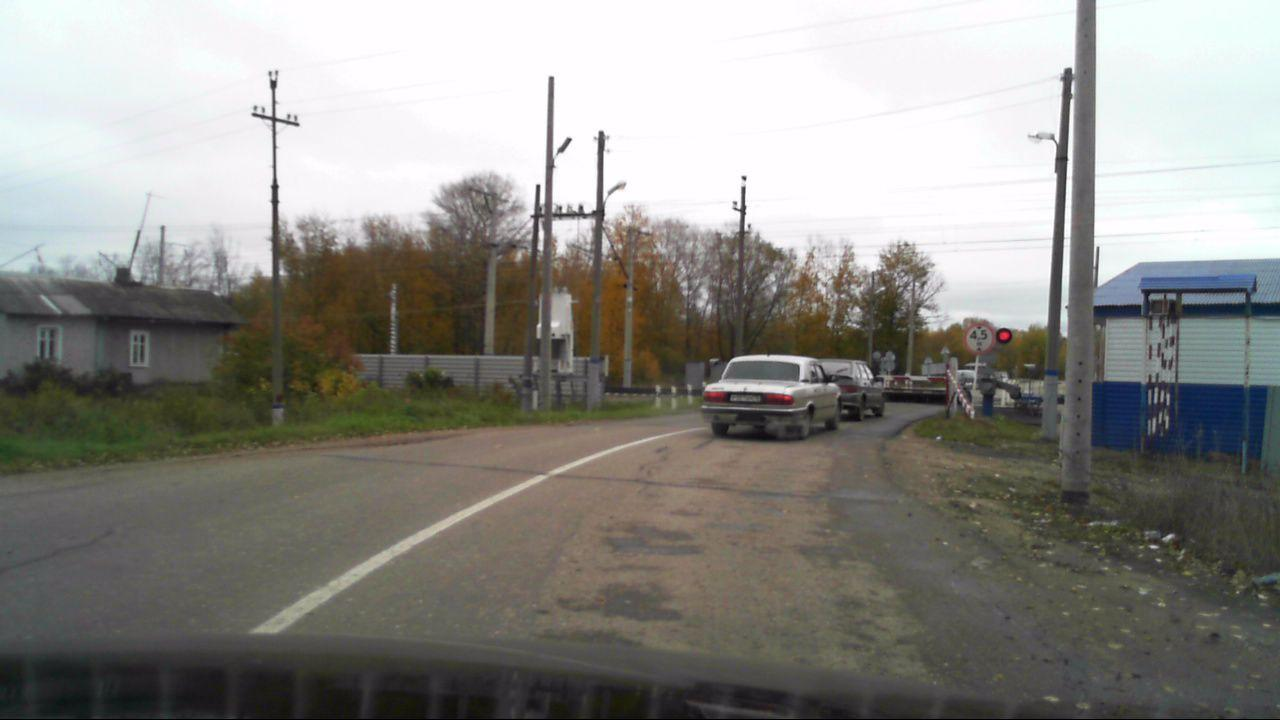3_13: (966, 325, 995, 355)
